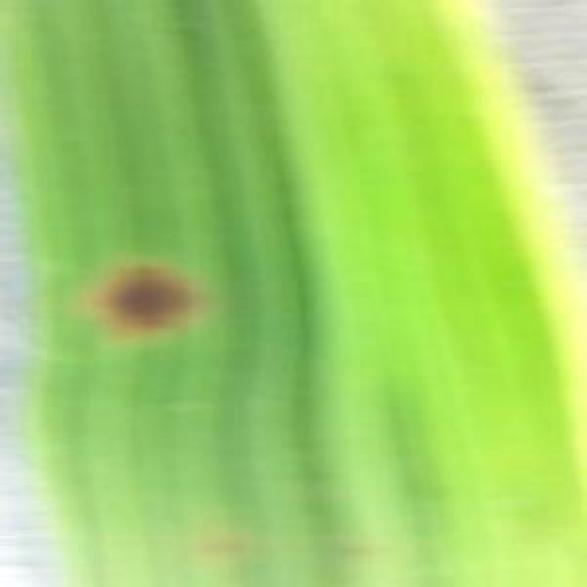Brown_Spot: (65, 239, 223, 358)
